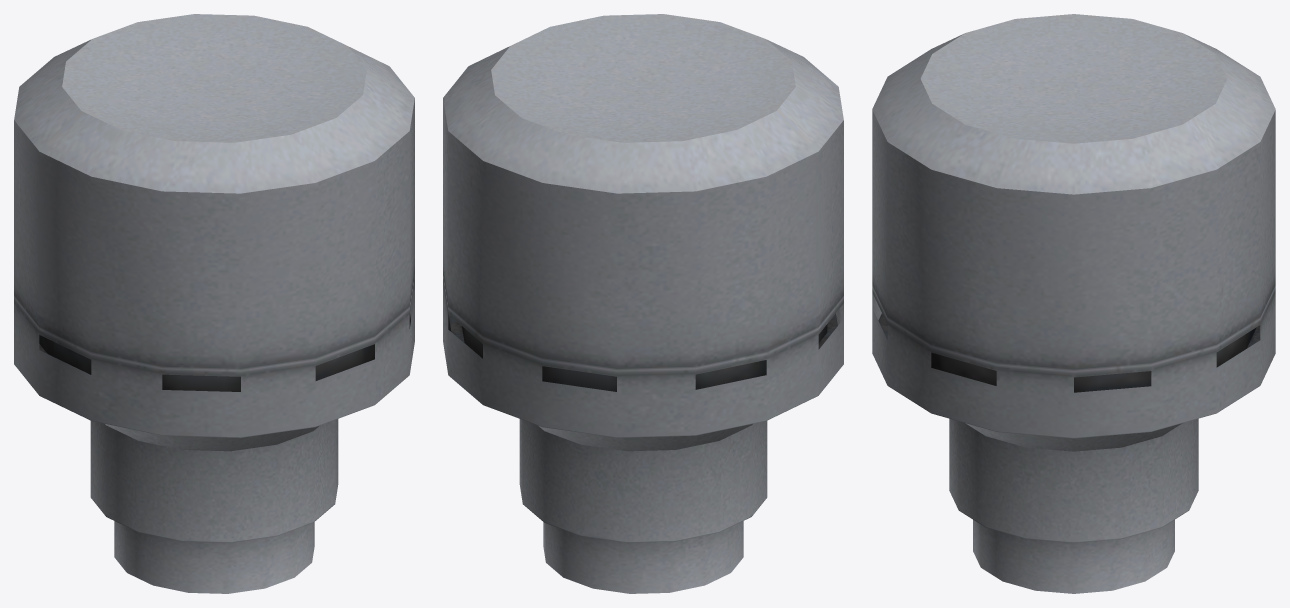
The model's file is chimney_skybox006.glb.
The picture shows the model from 3 angles, left to right: view 1: azimuth 30°, elevation 25°; view 2: azimuth 150°, elevation 25°; view 3: azimuth 270°, elevation 25°; orthographic projection.
Parts seen in each view (by area): view 1: chimney_skybox006; view 2: chimney_skybox006; view 3: chimney_skybox006.
Boxes of the visible parts, bbox=[...] form: chimney_skybox006: bbox=[14, 14, 414, 593]; chimney_skybox006: bbox=[443, 14, 843, 593]; chimney_skybox006: bbox=[872, 14, 1275, 593].
Size of the model in its own units: 0.1143 by 0.1476 by 0.1143.
Materials: 1 (1 with a texture image).
